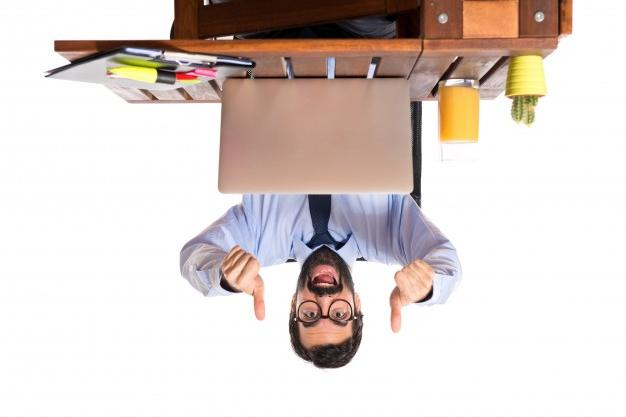thumbsdown: (220, 245, 265, 321), (390, 259, 434, 333)
